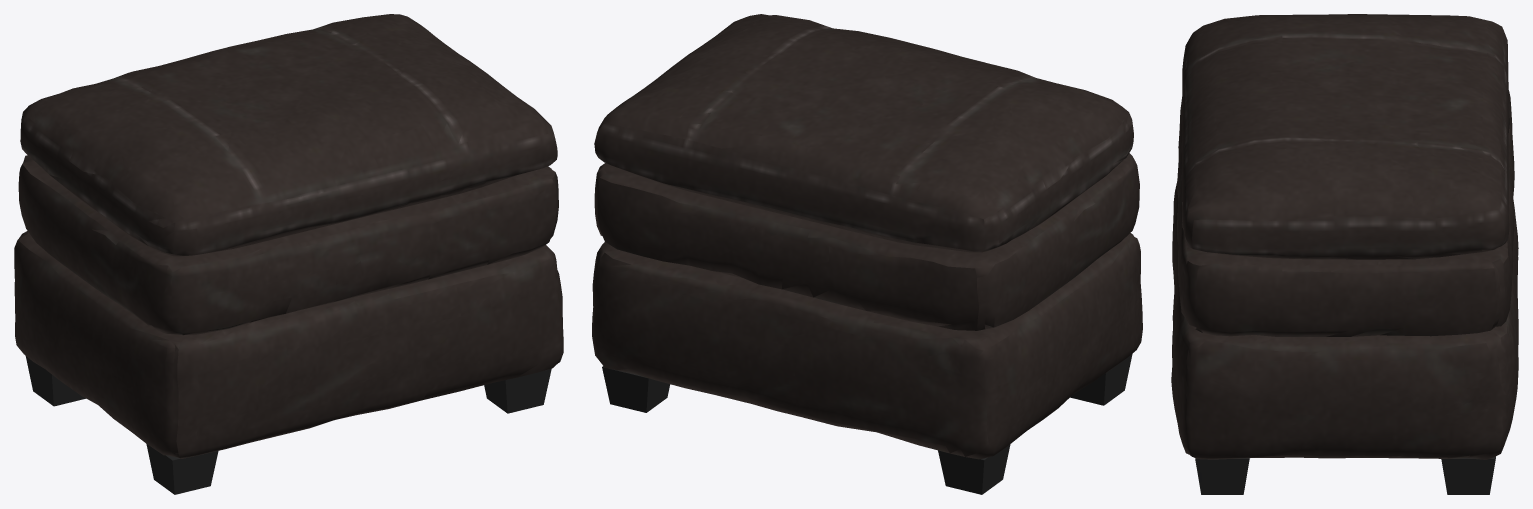
Rendered from ottoman.glb.
The picture shows the model from 3 angles, left to right: view 1: azimuth 30°, elevation 25°; view 2: azimuth 150°, elevation 25°; view 3: azimuth 270°, elevation 25°; orthographic projection.
Visible parts, largest first — view 1: mesh; view 2: mesh; view 3: mesh.
Boxes of the visible parts, bbox=[...] form: mesh: bbox=[14, 14, 563, 494]; mesh: bbox=[592, 14, 1142, 494]; mesh: bbox=[1171, 14, 1518, 494].
Size of the model in its own units: 0.8846 by 0.6243 by 0.6212.
1 material, 1 textured.
